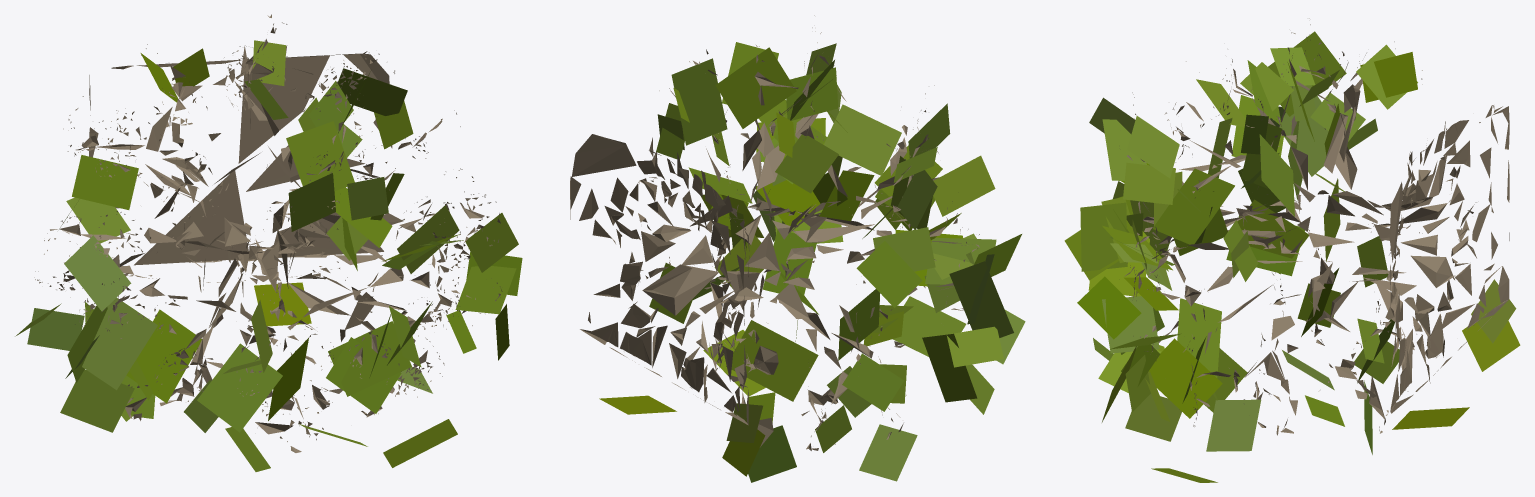
Rendered from tree_large_ancient_a.glb.
3 renders of one model, left to right at view 1: azimuth 30°, elevation 25°; view 2: azimuth 150°, elevation 25°; view 3: azimuth 270°, elevation 25°, orthographic. The views are drawn at different scales.
Parts seen in each view (by area): view 1: leaves, wood; view 2: leaves, wood; view 3: leaves, wood.
Boxes of the visible parts, x1=… form: leaves: x1=15, y1=40, x2=522, y2=471; wood: x1=34, y1=14, x2=502, y2=452; leaves: x1=599, y1=42, x2=1025, y2=482; wood: x1=570, y1=15, x2=979, y2=450; leaves: x1=1064, y1=31, x2=1520, y2=482; wood: x1=1124, y1=18, x2=1509, y2=435.
Bounding box in the file's own units: 22.09 × 21.21 × 20.69.
